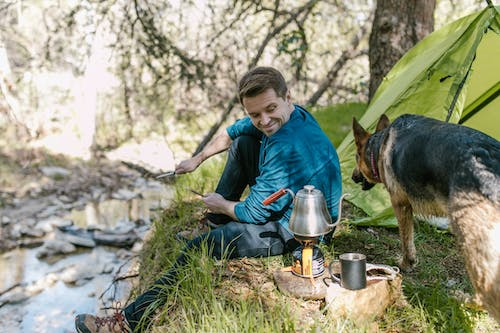knife: (155, 170, 176, 180)
